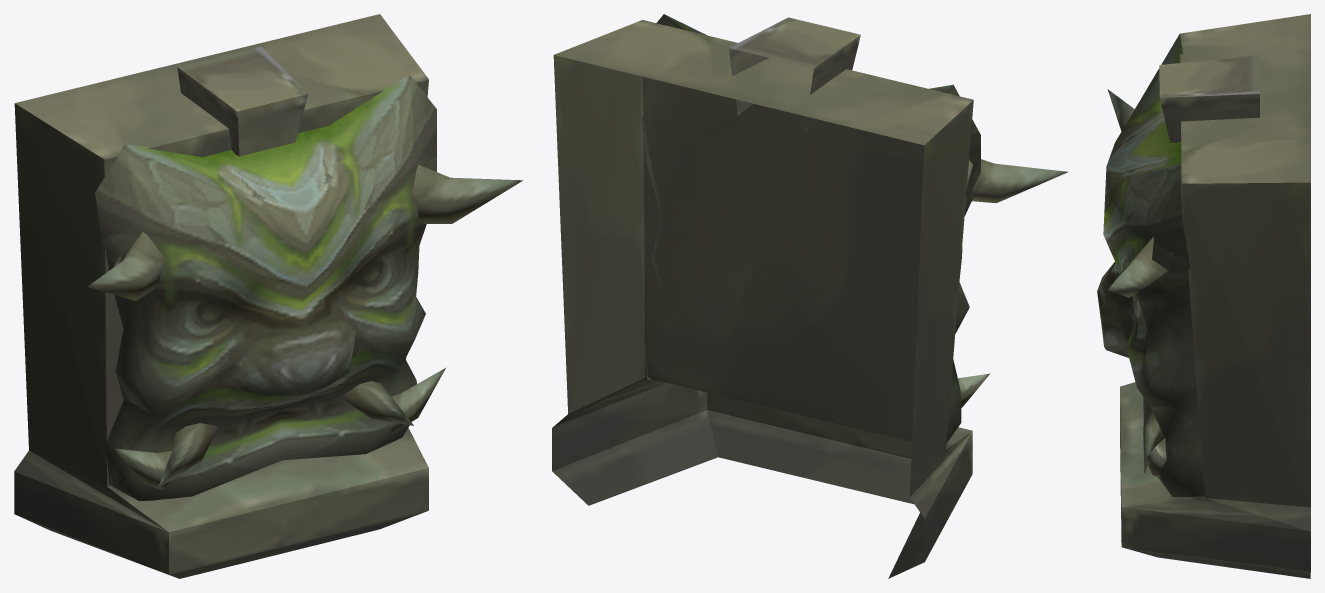
Rendered from fb_lyhg_tt_02.FBX.
3 views of the same model, side by side, from view 1: azimuth 30°, elevation 25°; view 2: azimuth 150°, elevation 25°; view 3: azimuth 270°, elevation 25° (orthographic). The views are drawn at different scales.
Parts seen in each view (by area): view 1: fb_lyhg_tt_02; view 2: fb_lyhg_tt_02; view 3: fb_lyhg_tt_02.
Boxes of the visible parts, left/top/right/bottom form: fb_lyhg_tt_02: left=14, top=14, right=522, bottom=578; fb_lyhg_tt_02: left=552, top=14, right=1067, bottom=578; fb_lyhg_tt_02: left=1097, top=14, right=1310, bottom=578.
Size of the model in its own units: 383 by 384 by 172.
